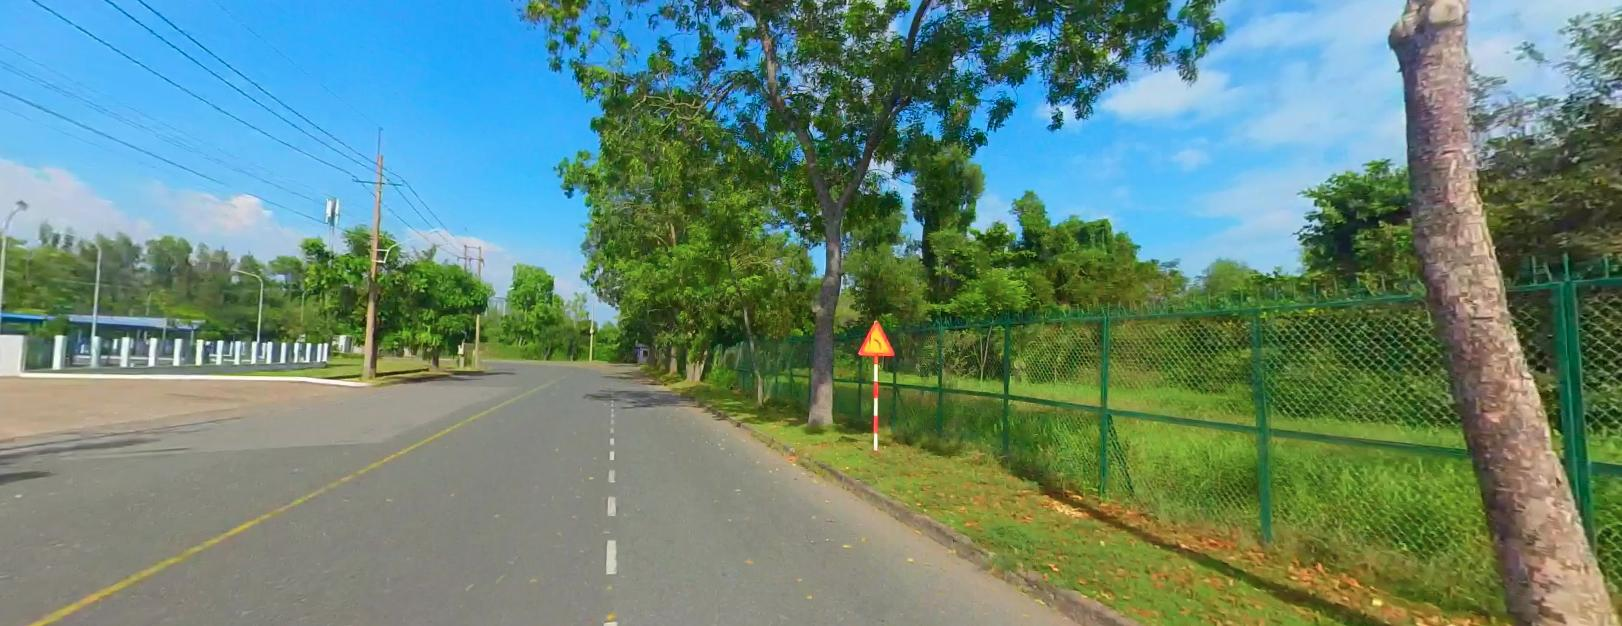Nguy hiem: (858, 318, 894, 354)
